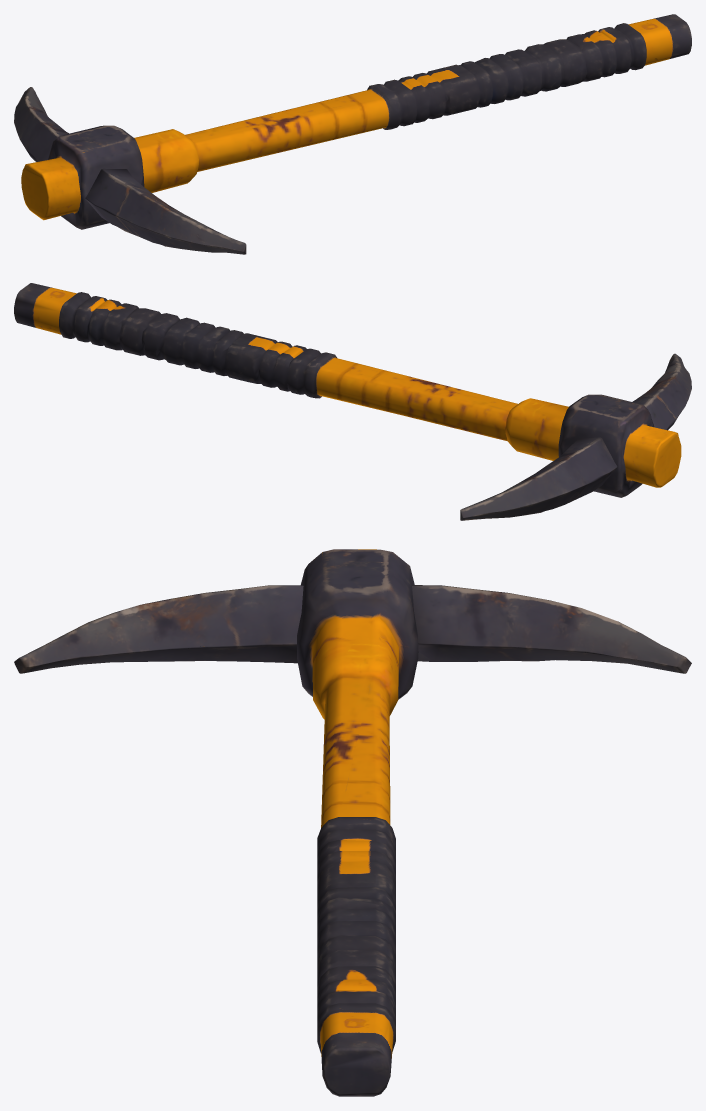
File: pickaxe_reinforced.glb
The picture shows the model from 3 angles, top to bottom: view 1: azimuth 30°, elevation 25°; view 2: azimuth 150°, elevation 25°; view 3: azimuth 270°, elevation 25°; orthographic projection. The views are drawn at different scales.
Parts seen in each view (by area): view 1: geometry_0; view 2: geometry_0; view 3: geometry_0.
Part boxes in pixels (x1=…): geometry_0: x1=14, y1=14, x2=691, y2=254; geometry_0: x1=14, y1=283, x2=691, y2=520; geometry_0: x1=14, y1=549, x2=691, y2=1096.
Bounding box in the file's own units: 0.9551 × 0.1099 × 0.5591.
1 material, 1 textured.
